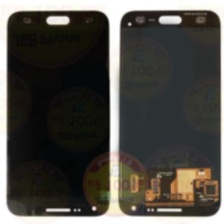phone: (117, 6, 224, 219), (4, 9, 112, 220)
